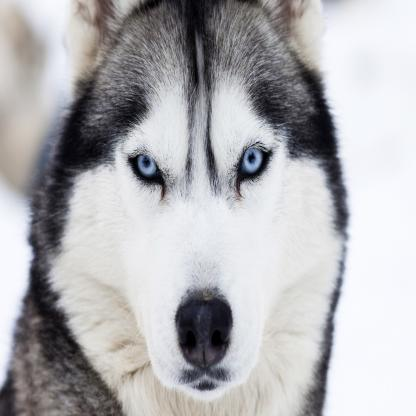husky: (0, 0, 355, 416)
